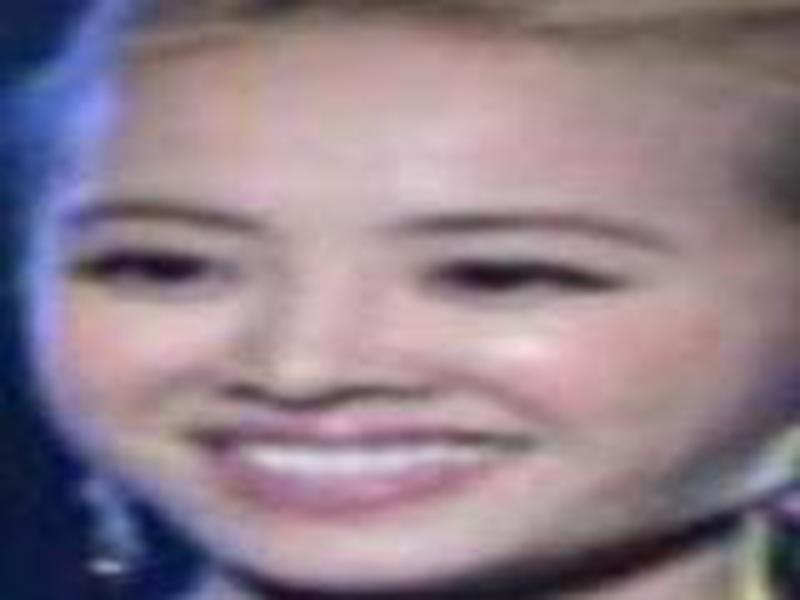without_mask: (42, 59, 736, 572)
